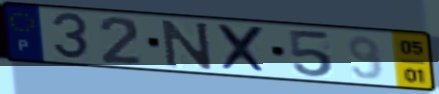2: (96, 14, 145, 67)
3: (47, 10, 92, 62)
5: (286, 28, 337, 79)
9: (346, 34, 386, 82)
N: (159, 18, 216, 71)
X: (215, 22, 271, 76)
